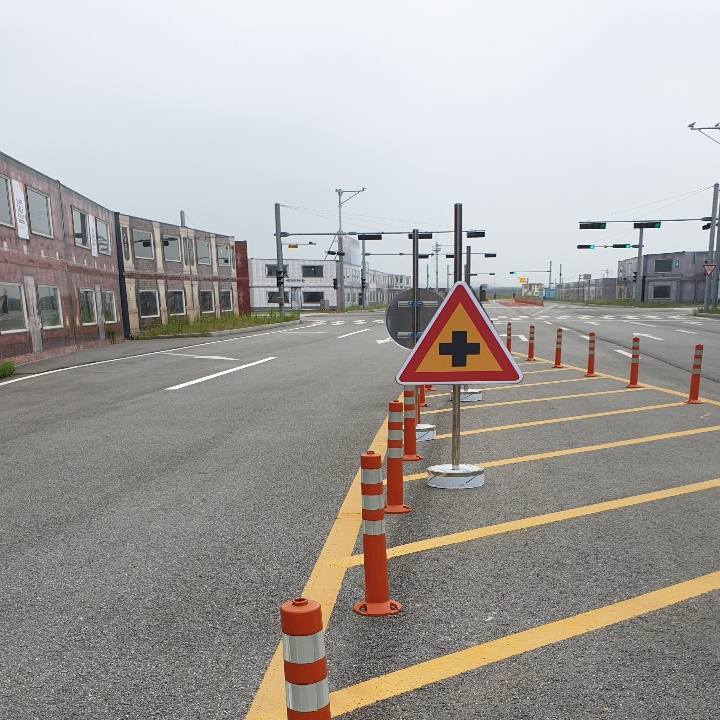inter: (435, 328, 485, 372)
